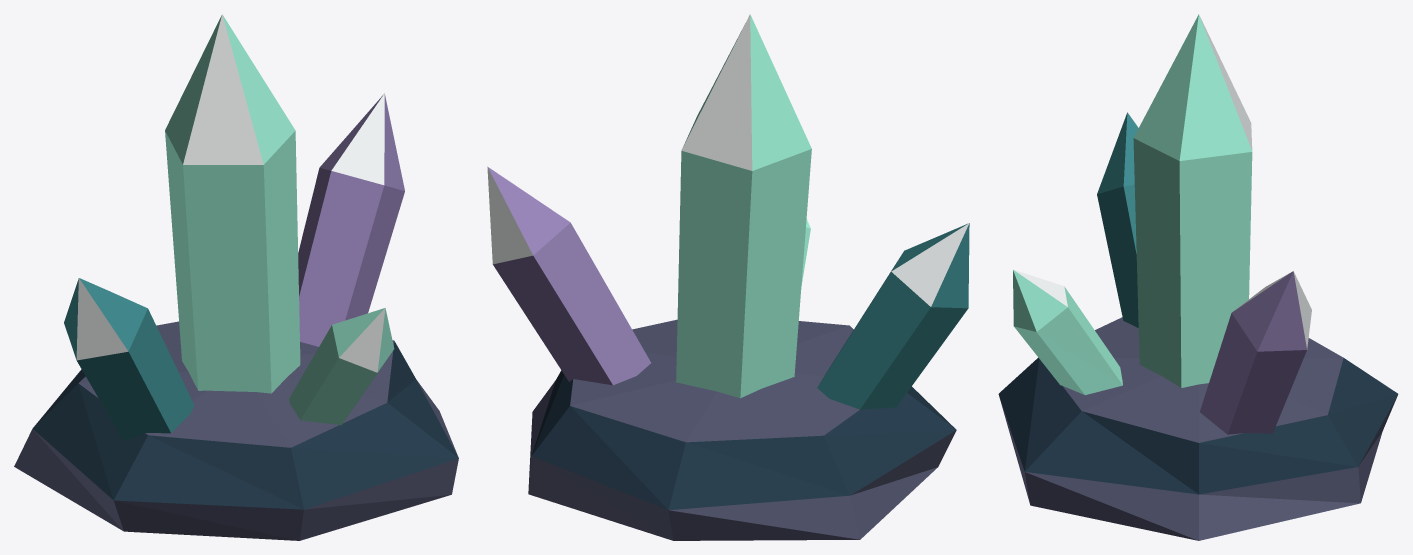
File: AetherCrystal.obj
3 views of the same model, side by side, from view 1: azimuth 30°, elevation 25°; view 2: azimuth 150°, elevation 25°; view 3: azimuth 270°, elevation 25° (orthographic). The views are drawn at different scales.
Bounding box in the file's own units: 3.34 × 3.6 × 3.06.
